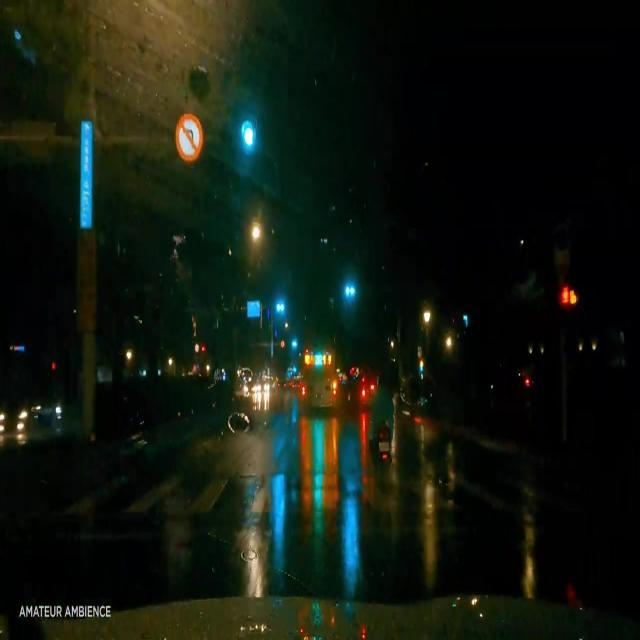Car: (1, 393, 60, 439)
